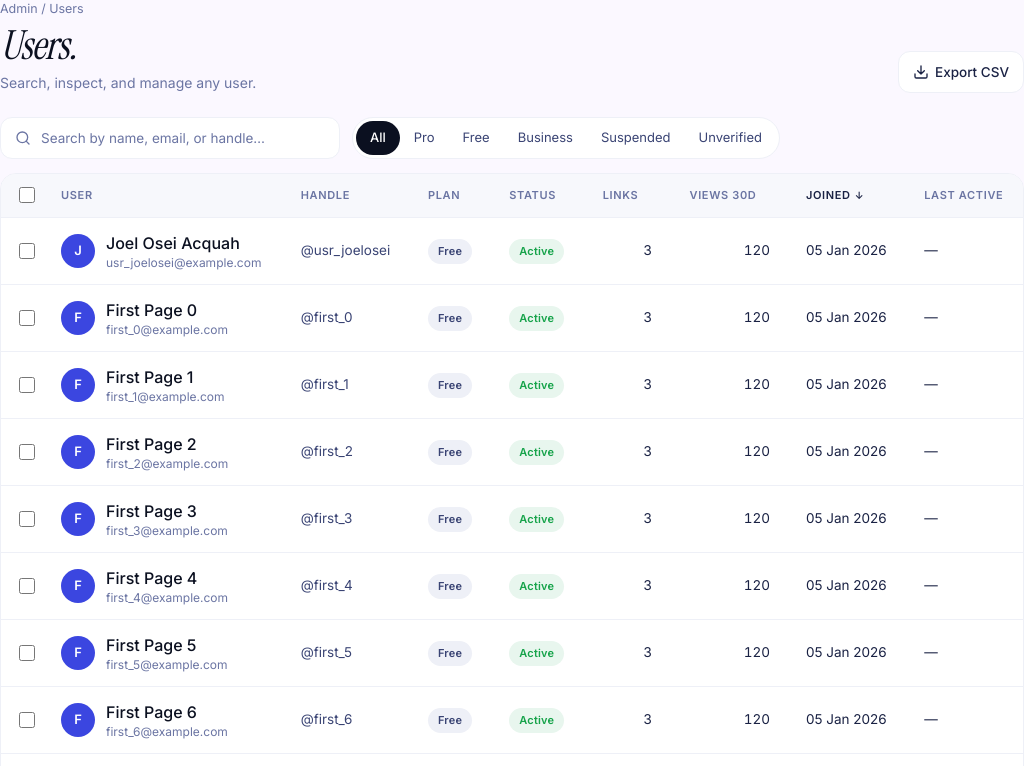
Test case: UsersClient › filters rows by debounced search
Check: the text "Joel Osei Acquah" is shown, box [106,230,261,254]
Type "sara" into the search field named "Search users" at (183, 138), box [41,128,325,148]
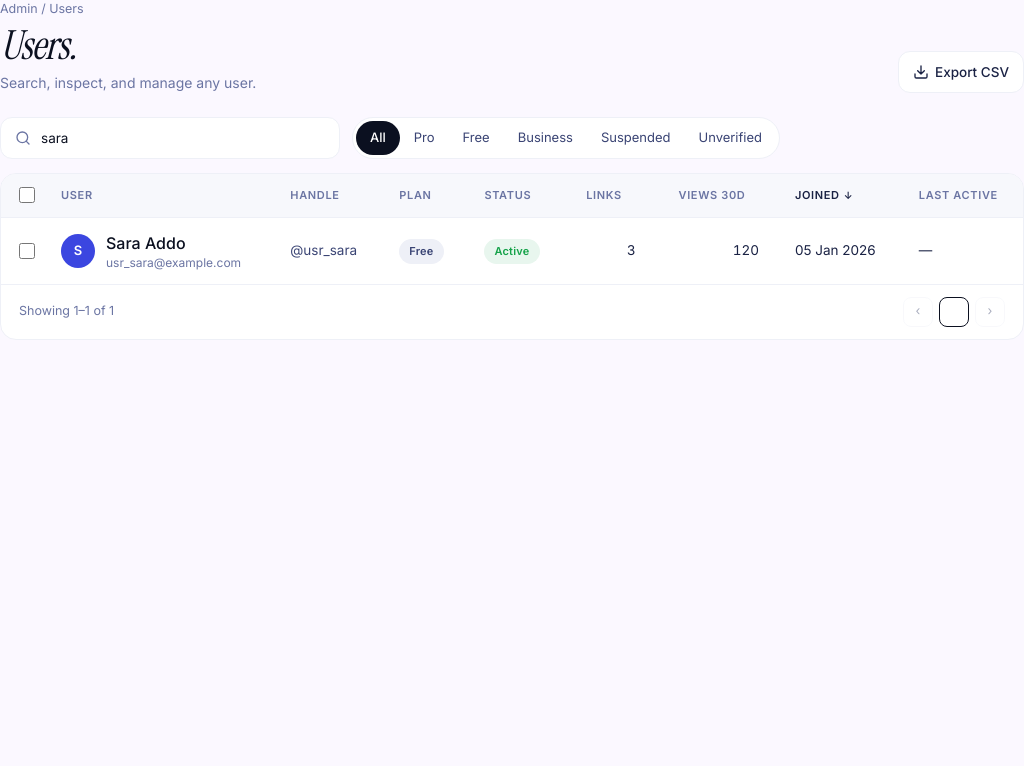
Check: the text "Joel Osei Acquah" is gone
Check: the text "Sara Addo" is shown, box [106,232,186,252]
